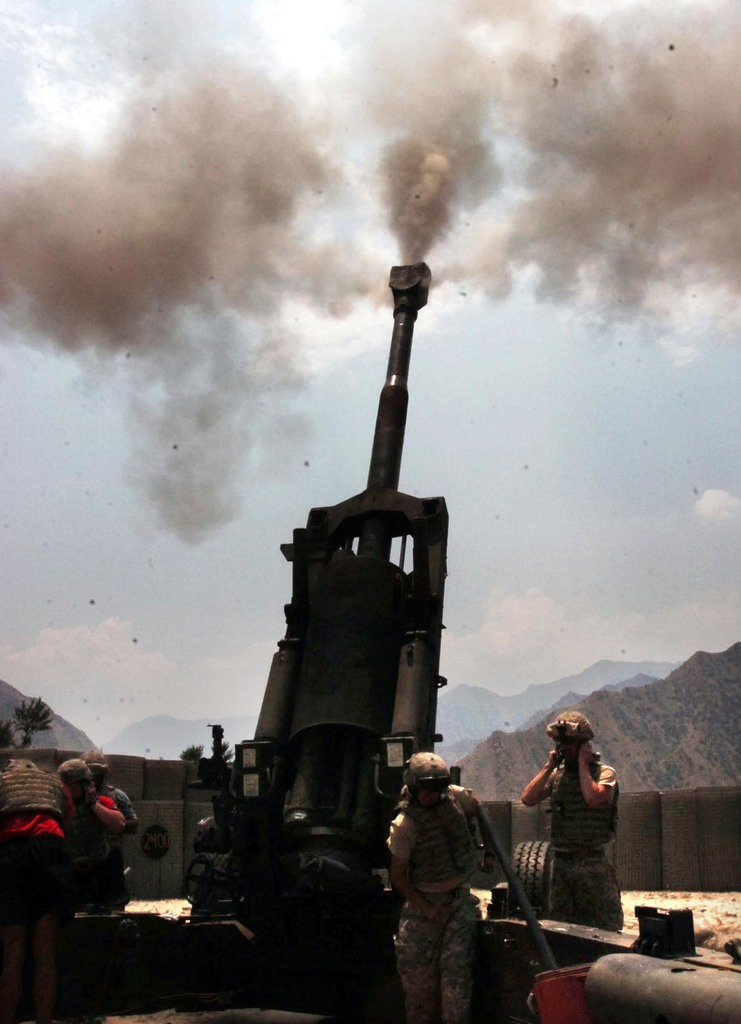Person: (0, 710, 741, 1022)
